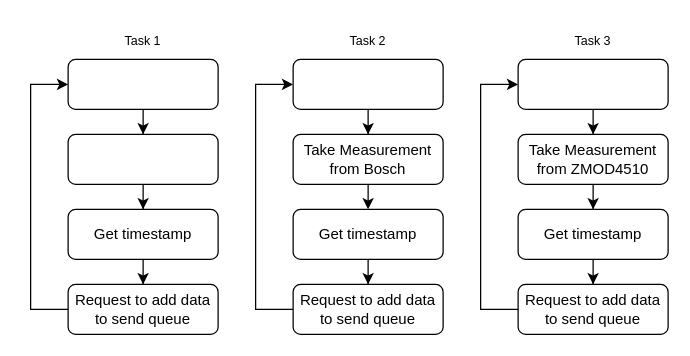
The diagram is 690 pixels wide and 356 high, and some of its shapes have lost their labels. Each missing label, with the centre of its shape:
Sleep X minutes: point 142,83
Sleep Y minutes: point 367,83
Sleep Z minutes: point 592,83
Take Measurement from SPS30: point 142,158
